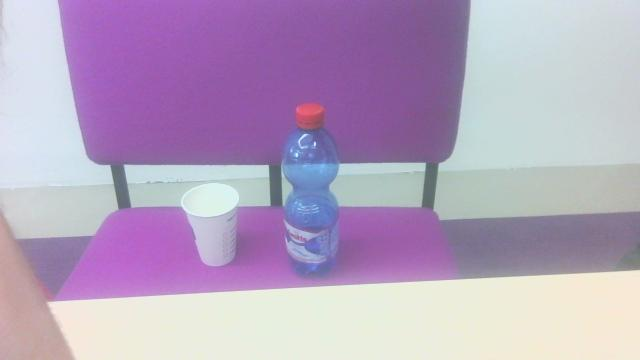cup: (177, 178, 247, 270)
plastic_bottle: (277, 100, 347, 281)
